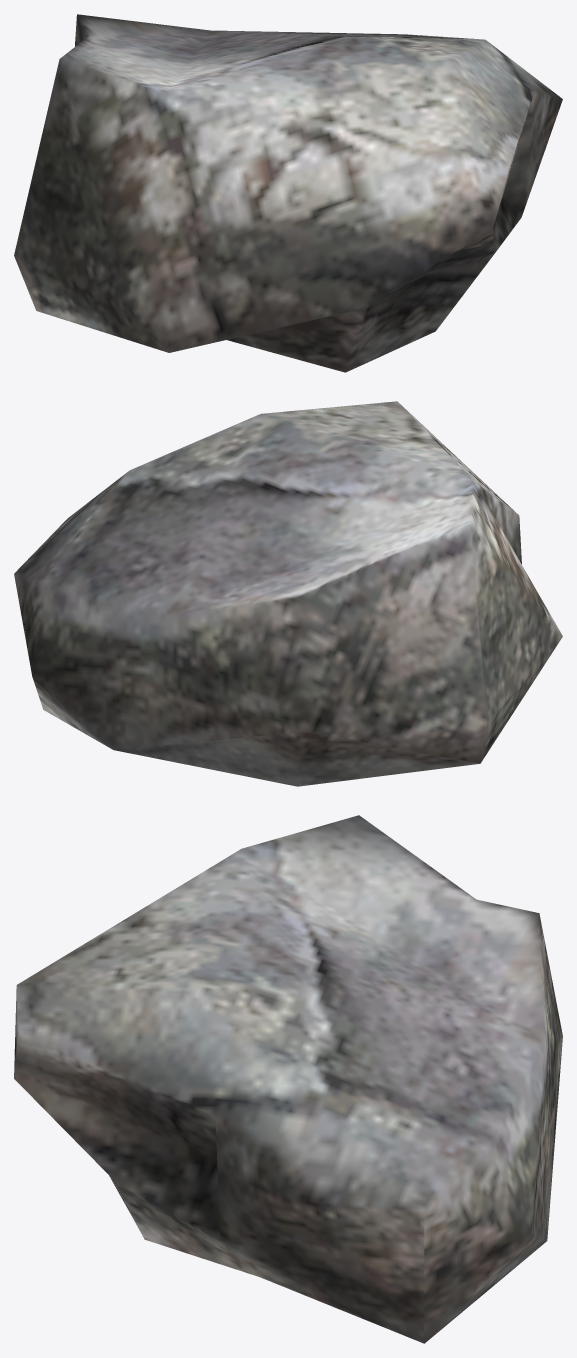
Rendered from proc_stones_01.FBX.
The picture shows the model from 3 angles, top to bottom: view 1: azimuth 30°, elevation 25°; view 2: azimuth 150°, elevation 25°; view 3: azimuth 270°, elevation 25°; orthographic projection. The views are drawn at different scales.
Parts seen in each view (by area): view 1: proc_stones_01; view 2: proc_stones_01; view 3: proc_stones_01.
Part boxes in pixels (<box>): proc_stones_01: <box>14,14,562,372</box>; proc_stones_01: <box>14,401,562,786</box>; proc_stones_01: <box>14,815,562,1343</box>.
Size of the model in its own units: 0.1152 by 0.1025 by 0.0625.
1 material, 1 textured.
